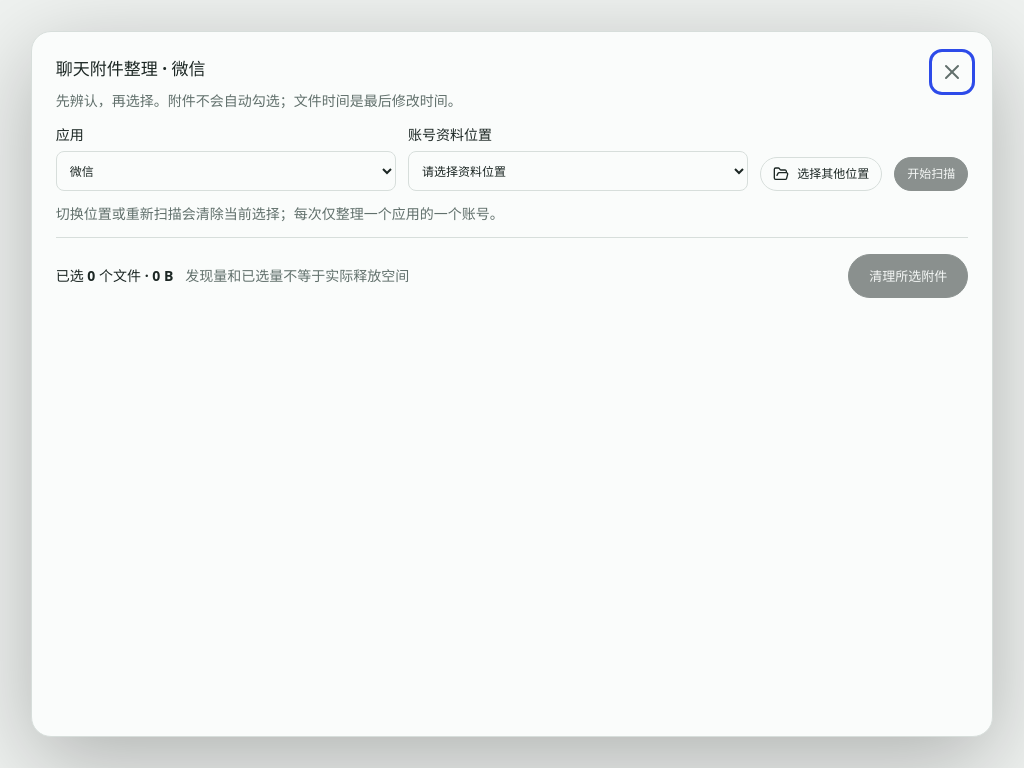
Test: refreshes outcomes after the final report and clears only successful selections
Select "测试账号 · C:\\test\\xwechat_files\\wxid_sample" in the dropdown labelled "账号资料位置" at (578, 171), box 408,151 -> 748,191
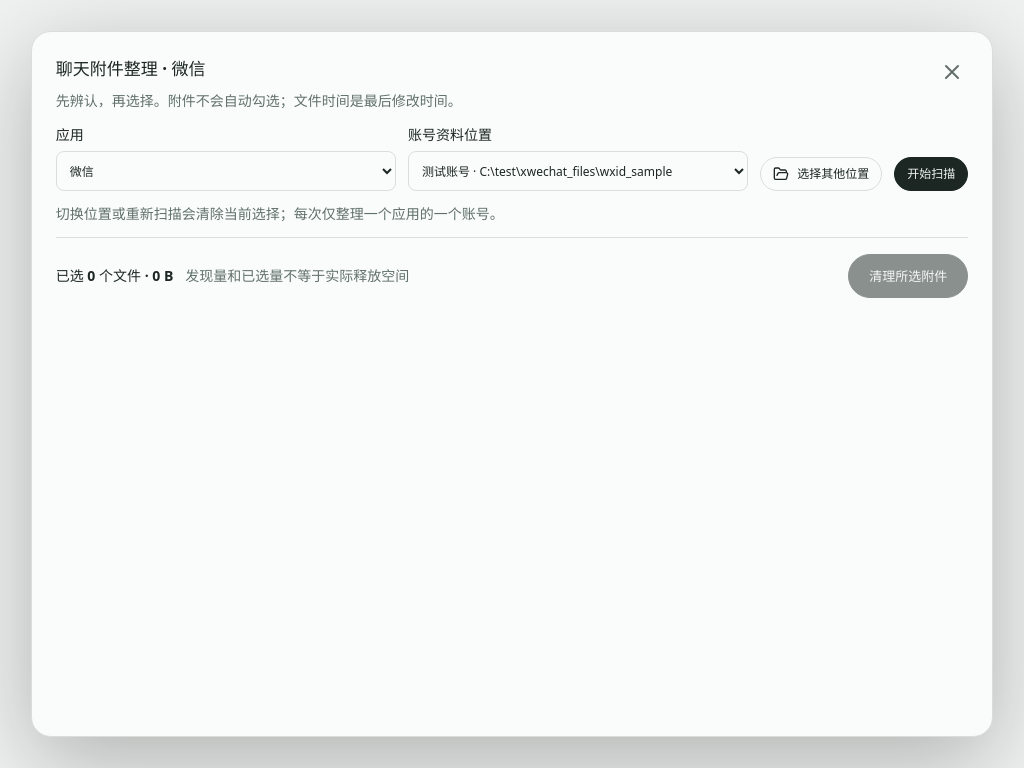
expect the button "开始扫描" is enabled: met
Click the button "开始扫描".
click(931, 174)  # box 894,157 -> 968,191
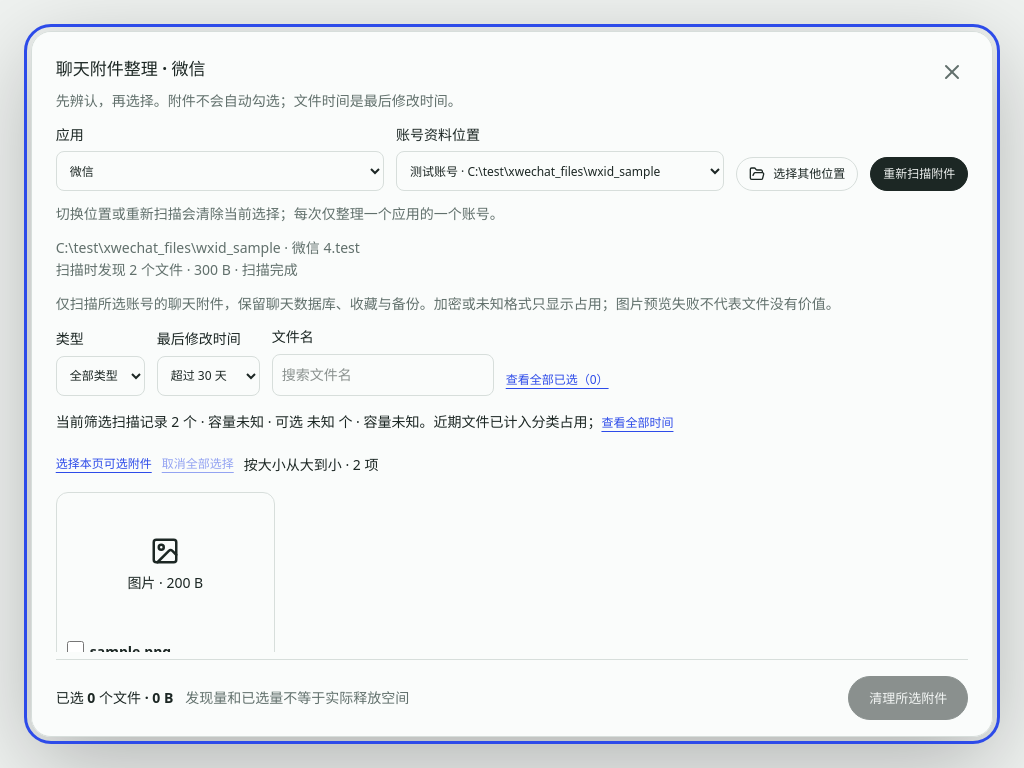
expect the checkbox named "选择sample.png" is shown: met
Click the checkbox named "选择sample.png".
click(75, 649)  # box 67,641 -> 84,658
(page scrolled)
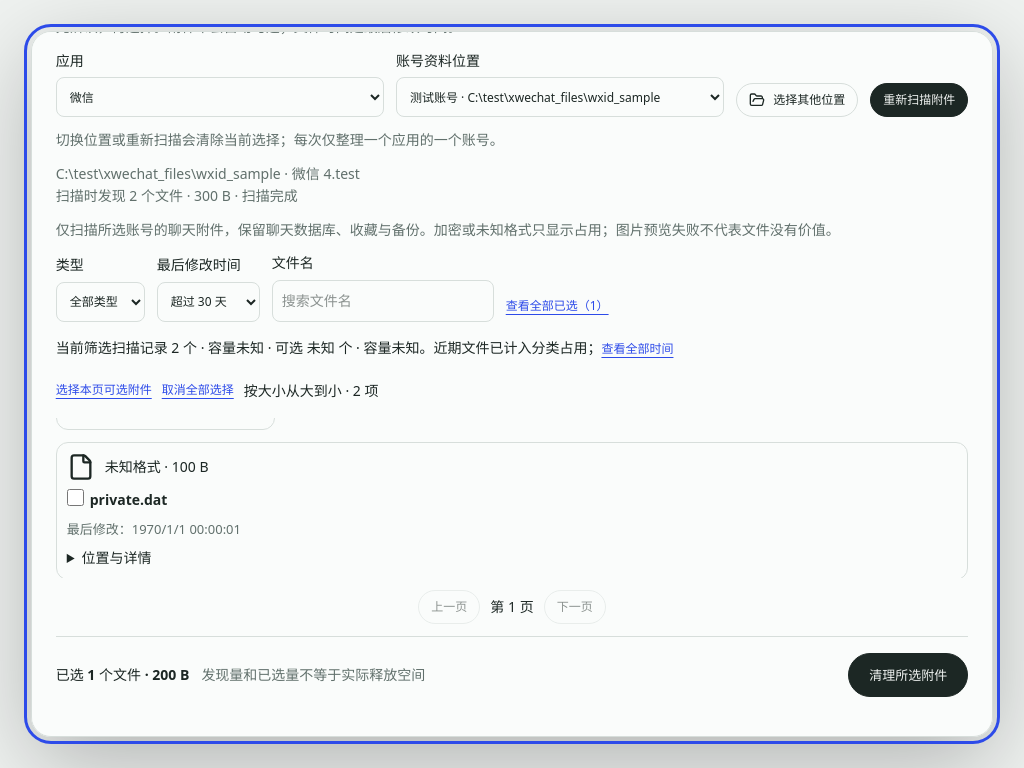
Click the checkbox named "选择private.dat".
click(75, 498)  # box 67,489 -> 84,506
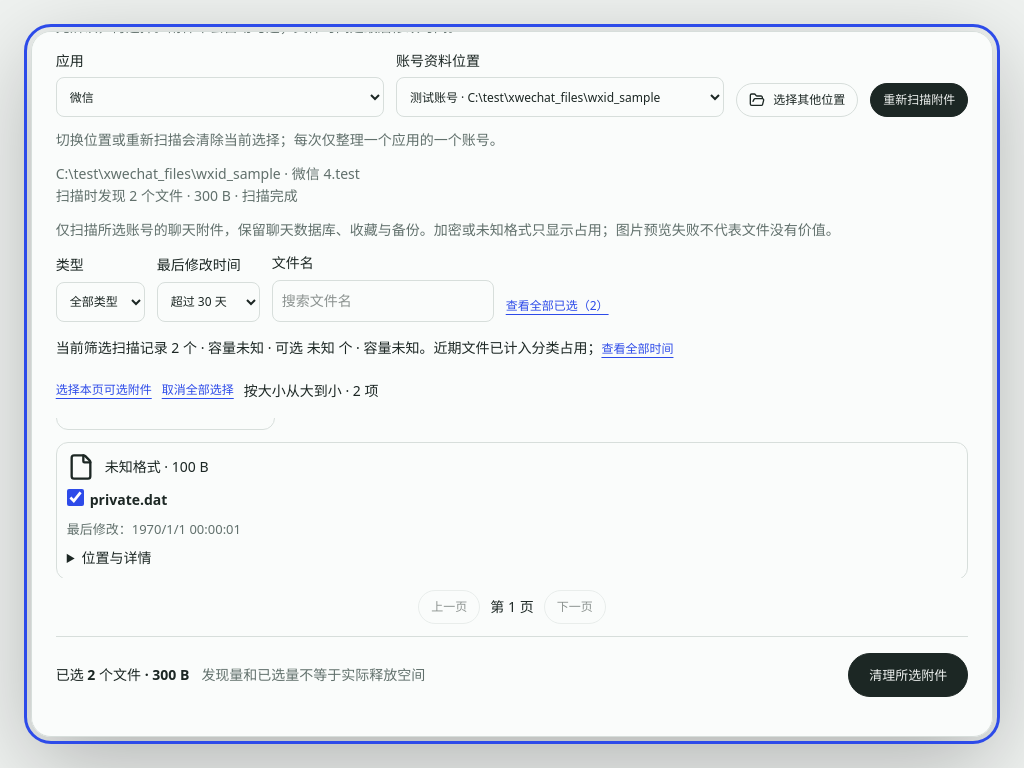
Click the button "清理所选附件".
click(908, 675)  # box 848,653 -> 968,697
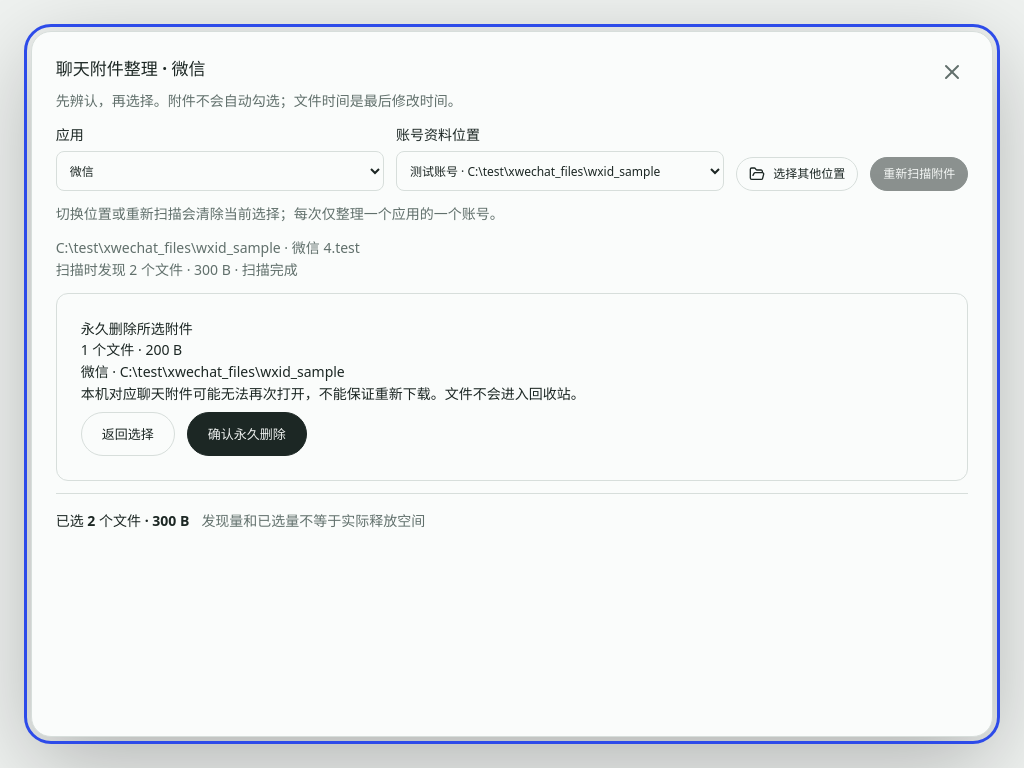
expect the button "确认永久删除" is shown: met
Click the button "确认永久删除".
click(247, 434)  # box 187,412 -> 307,456
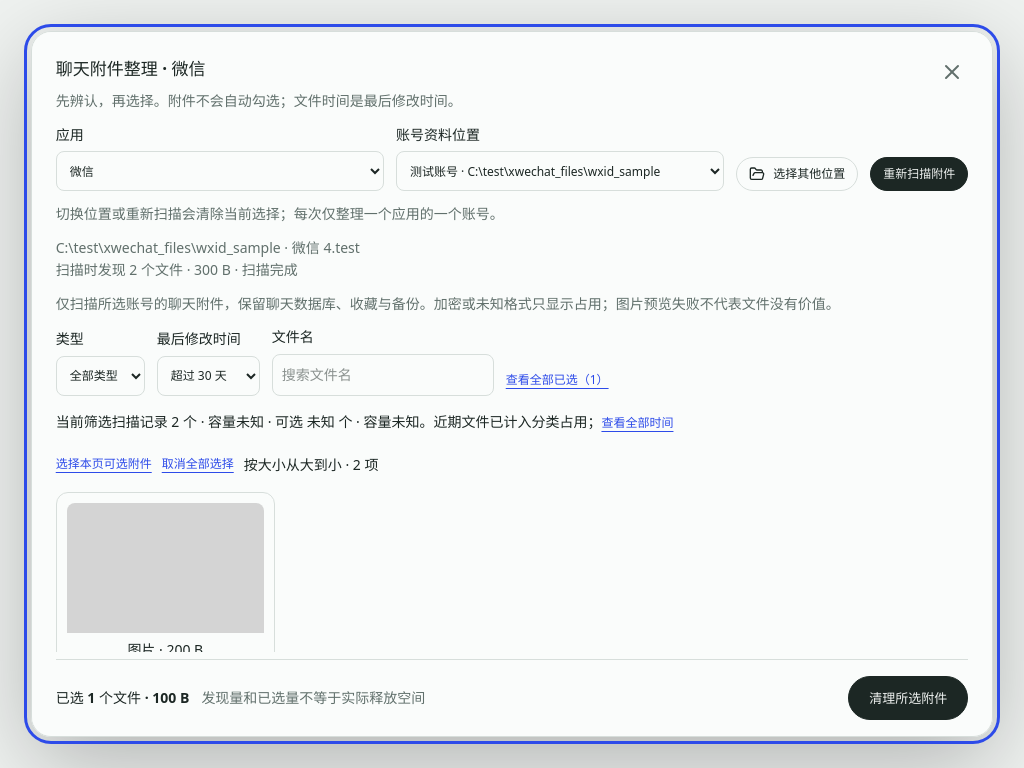
expect the text "已选 1 个文件 · 100 B" is shown: met, box 56,687 -> 189,709
